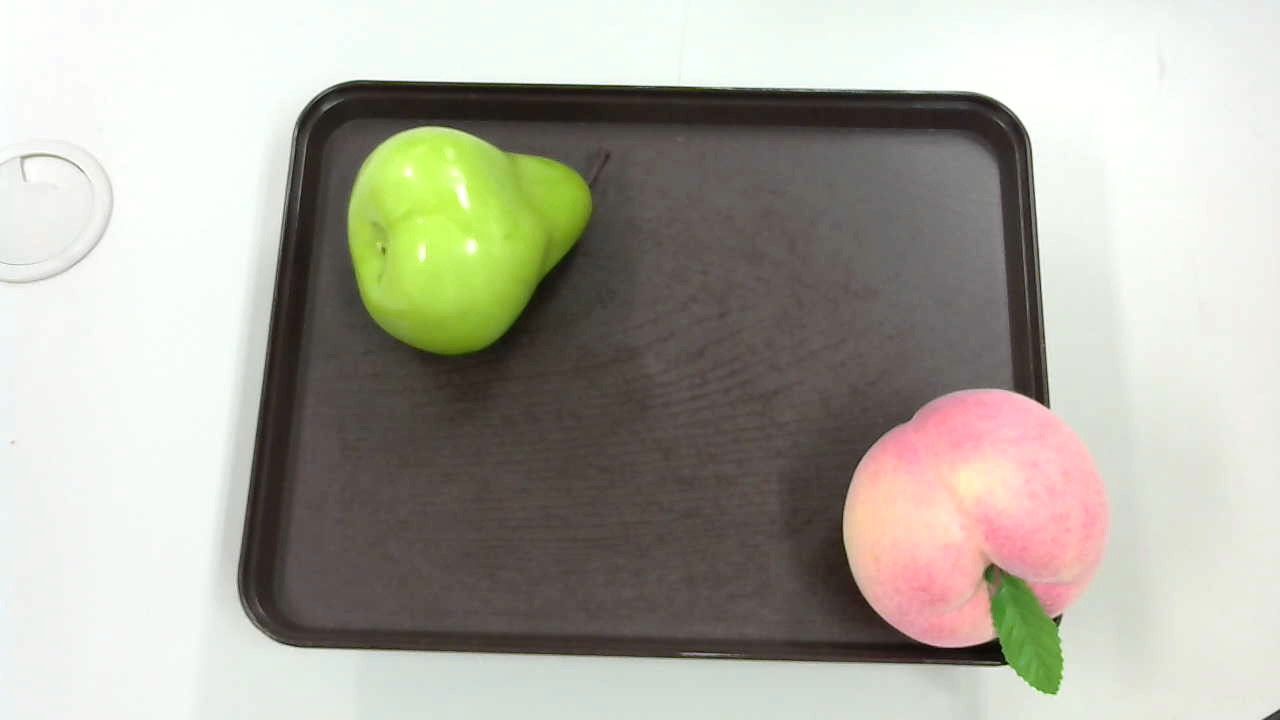green pear: (340, 123, 610, 355)
peach: (837, 388, 1112, 695)
